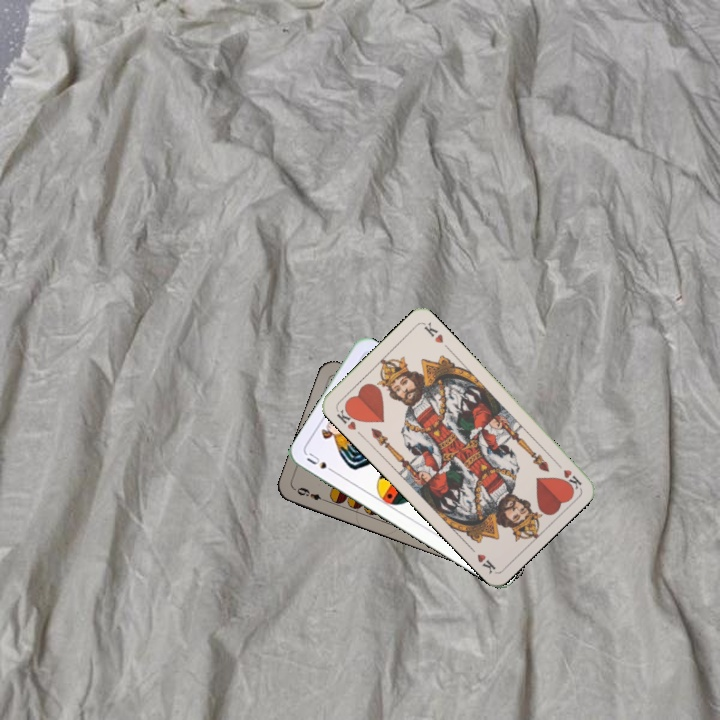E9: (293, 483, 330, 505)
HK: (551, 457, 584, 492), (332, 402, 362, 433)
SU: (302, 449, 339, 476)
